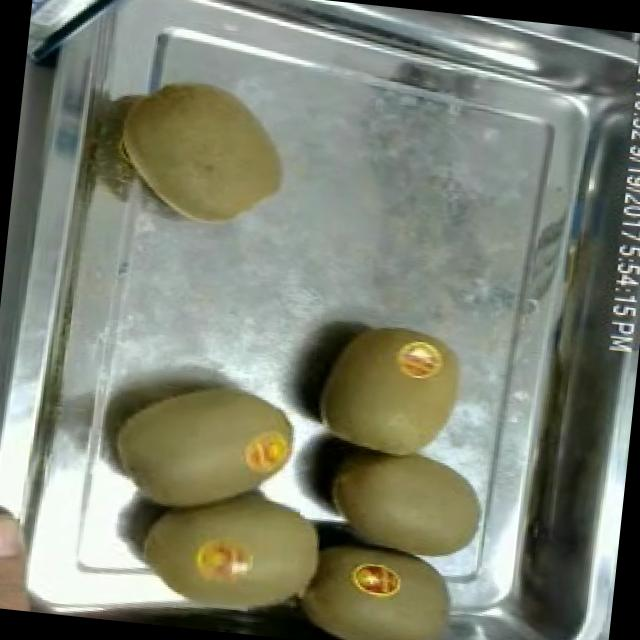Fruit: (105, 364, 318, 536), (102, 64, 302, 244), (126, 464, 327, 640), (302, 310, 479, 464), (312, 441, 500, 557), (0, 497, 59, 613)
